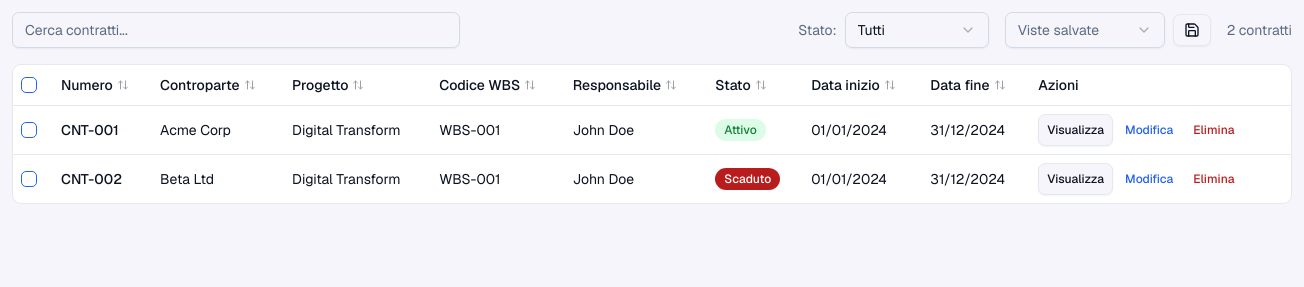
Test: ContractTable › deselects a single row without affecting the others
The width and height of the screenshot is (1304, 287).
What coordinates should you click on to do the following:
click the checkbox named "Seleziona contratto CNT-001"
I would click on:
 (29, 130)
Its box is [21, 122, 37, 138].
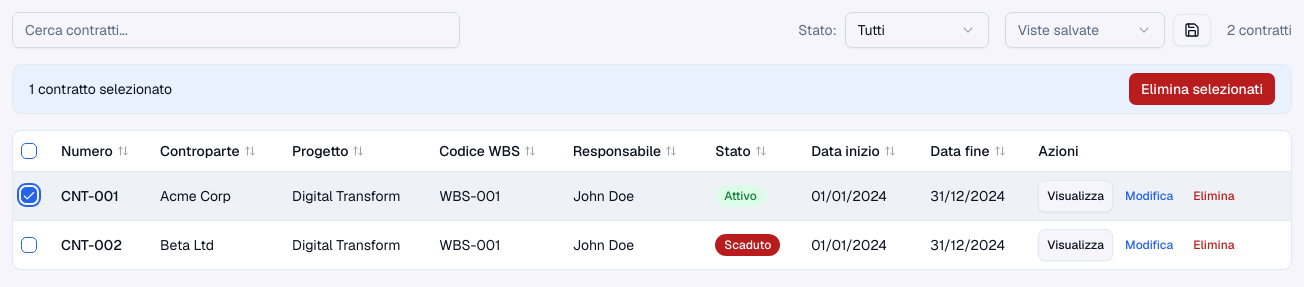
What coordinates should you click on to do the following:
click the checkbox named "Seleziona contratto CNT-002"
I would click on:
 (29, 244)
Its box is [21, 236, 37, 252].
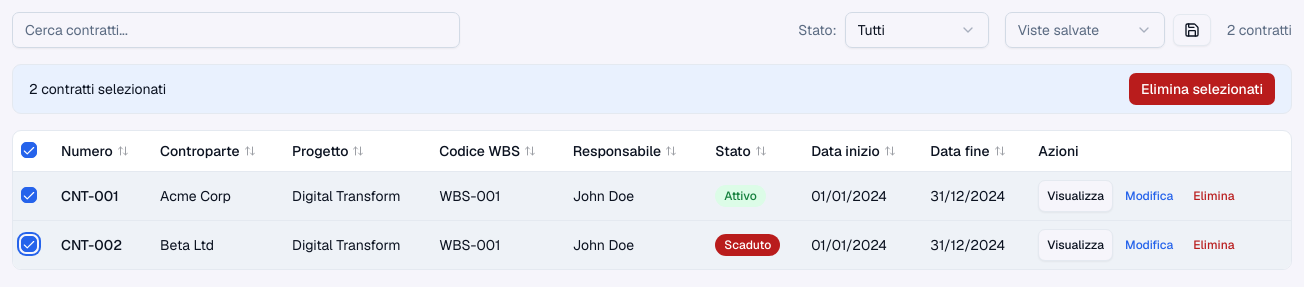
expect the text "2 contratti selezionati" is shown: met, box [29, 79, 166, 99]
What coordinates should you click on to do the following:
click the checkbox named "Seleziona contratto CNT-001"
I would click on:
 (29, 194)
Its box is [21, 186, 37, 202].
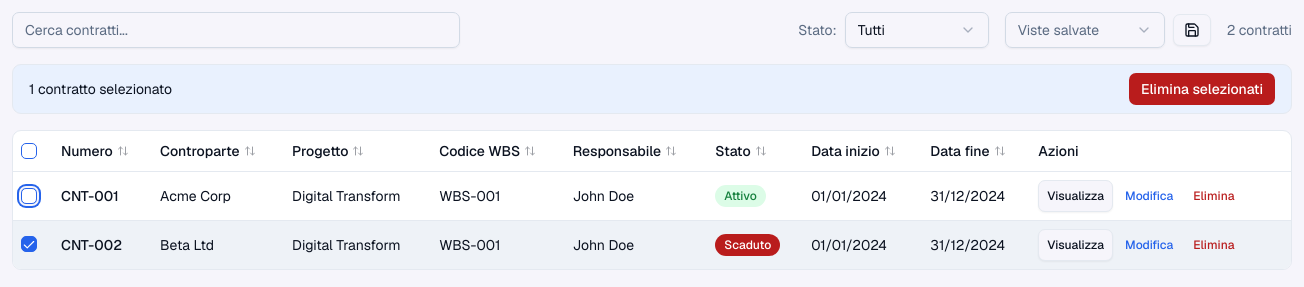
expect the text "1 contratto selezionato" is shown: met, box [29, 79, 172, 99]
